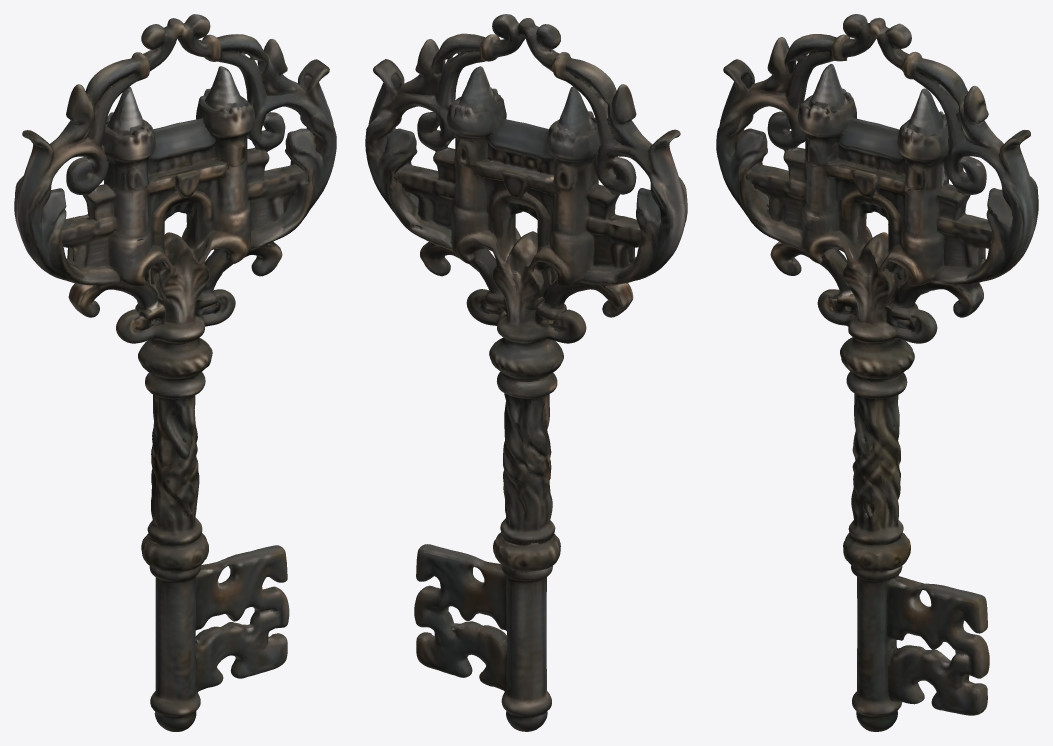
Rendered from key.glb.
3 views of the same model, side by side, from view 1: azimuth 30°, elevation 25°; view 2: azimuth 150°, elevation 25°; view 3: azimuth 330°, elevation 25° (orthographic).
Parts seen in each view (by area): view 1: geometry_0; view 2: geometry_0; view 3: geometry_0.
Part boxes in pixels (x1,y1,x2,y2): geometry_0: [14, 14, 336, 731]; geometry_0: [365, 14, 687, 731]; geometry_0: [716, 14, 1038, 731].
Size of the model in its own units: 0.25 by 0.5347 by 0.0515.
1 material, 1 textured.
